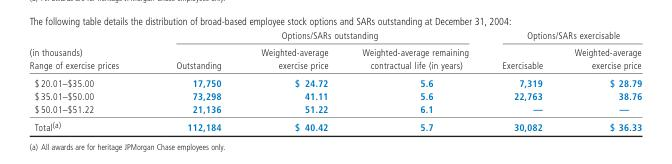table: (28, 28, 641, 132)
table column: (344, 28, 484, 132), (28, 28, 146, 132), (240, 28, 344, 132), (146, 28, 240, 132), (557, 28, 641, 132), (484, 28, 557, 132)
table column header: (28, 28, 641, 73)
table row: (28, 42, 641, 73), (28, 73, 641, 89), (28, 102, 641, 117), (28, 117, 641, 132), (28, 28, 641, 42), (28, 89, 641, 102)
table spanning cell: (28, 28, 146, 73), (146, 28, 484, 42), (484, 28, 641, 42)
